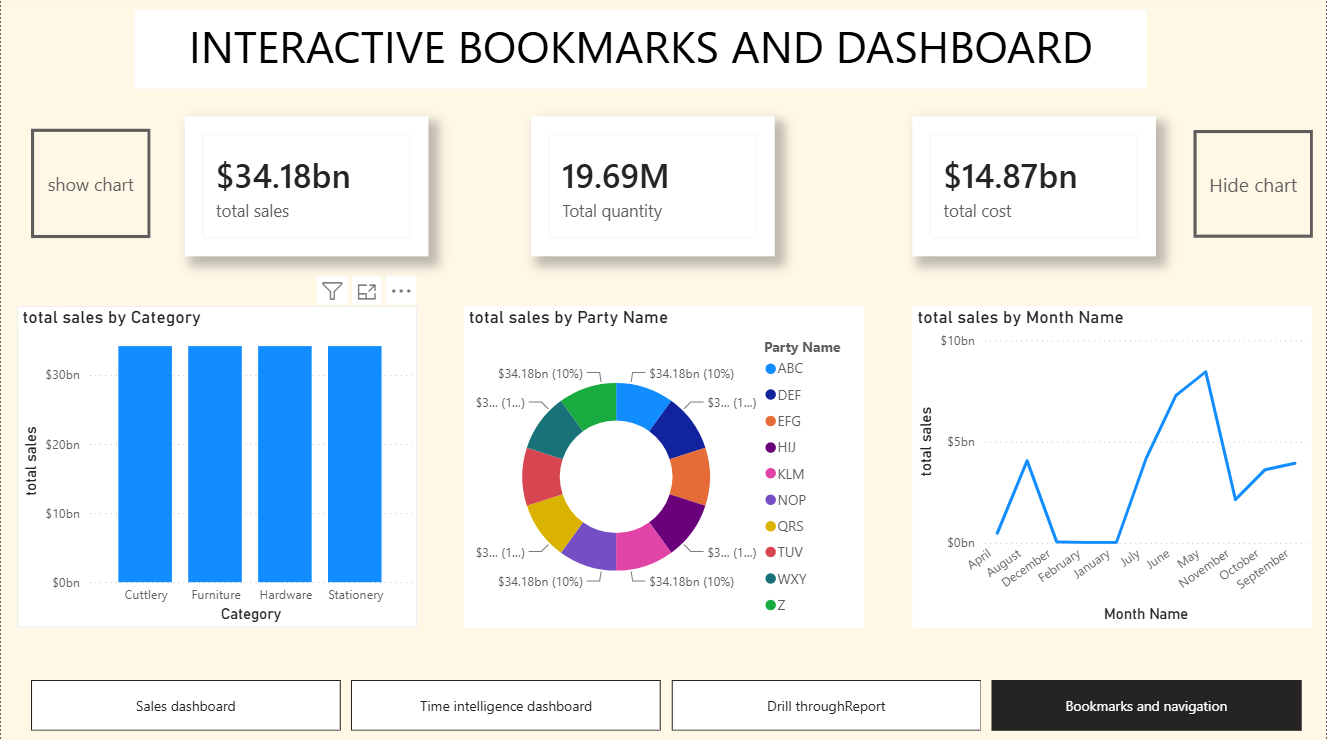

Layout of this report page (visuals, bound fields, positions):
{"tool":"powerbi","page":{"name":"Bookmarks and navigation","canvas":[1280,720],"ordinal":3},"visuals":[{"type":"clusteredColumnChart","fields":{"Category":["CY.Category"],"Y":["CY.total sales"]},"box":[16.1,300.4,386,310.3],"z":0},{"type":"actionButton","box":[28.5,129.1,115.4,105.5],"z":1000},{"type":"actionButton","box":[1150.7,130.3,115.4,104],"z":2000},{"type":"textbox","box":[129.1,14.9,976.9,75.7],"z":3000},{"type":"donutChart","fields":{"Category":["CY.Party Name"],"Y":["CY.total sales"]},"box":[446.9,300.4,386,310.3],"z":4000},{"type":"lineChart","fields":{"Category":["Dim date.Month Name"],"Y":["CY.total sales"]},"box":[880.1,300.4,386,310.3],"z":5000},{"type":"cardVisual","fields":{"Data":["CY.total sales"]},"box":[177.5,116.7,235,135],"z":6000},{"type":"cardVisual","fields":{"Data":["CY.Total quantity"]},"box":[511.4,116.7,235,135],"z":7000},{"type":"cardVisual","fields":{"Data":["CY.total cost"]},"box":[880.1,116.7,235,135],"z":8000},{"type":"pageNavigator","box":[28.5,661.6,1227.6,49.7],"z":9000}]}

Visuals, with their boxes in screenshot pixels (x1, y1, x2, y2), scaled from the page's 1280x720 canvas onto the 1327x740 screenshot:
clusteredColumnChart - CY.Category x CY.total sales: 17 309 417 628
actionButton: 30 133 149 241
actionButton: 1193 134 1313 241
textbox: 134 15 1147 93
donutChart - CY.Party Name x CY.total sales: 463 309 863 628
lineChart - Dim date.Month Name x CY.total sales: 912 309 1313 628
cardVisual - CY.total sales: 184 120 428 259
cardVisual - CY.Total quantity: 530 120 774 259
cardVisual - CY.total cost: 912 120 1156 259
pageNavigator: 30 680 1302 731
